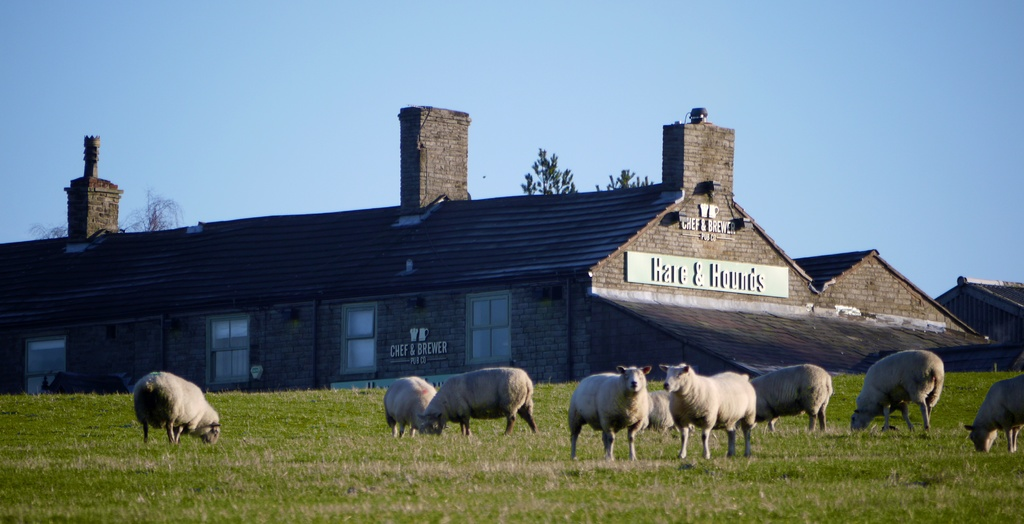sheep: (661, 366, 755, 462), (848, 349, 945, 436), (414, 367, 536, 436), (566, 363, 648, 465), (131, 367, 222, 445)
